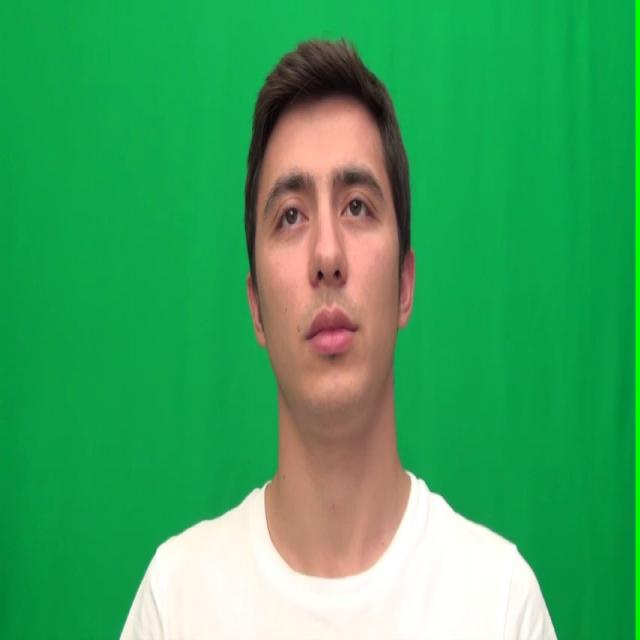Engaged: (256, 107, 395, 428)
